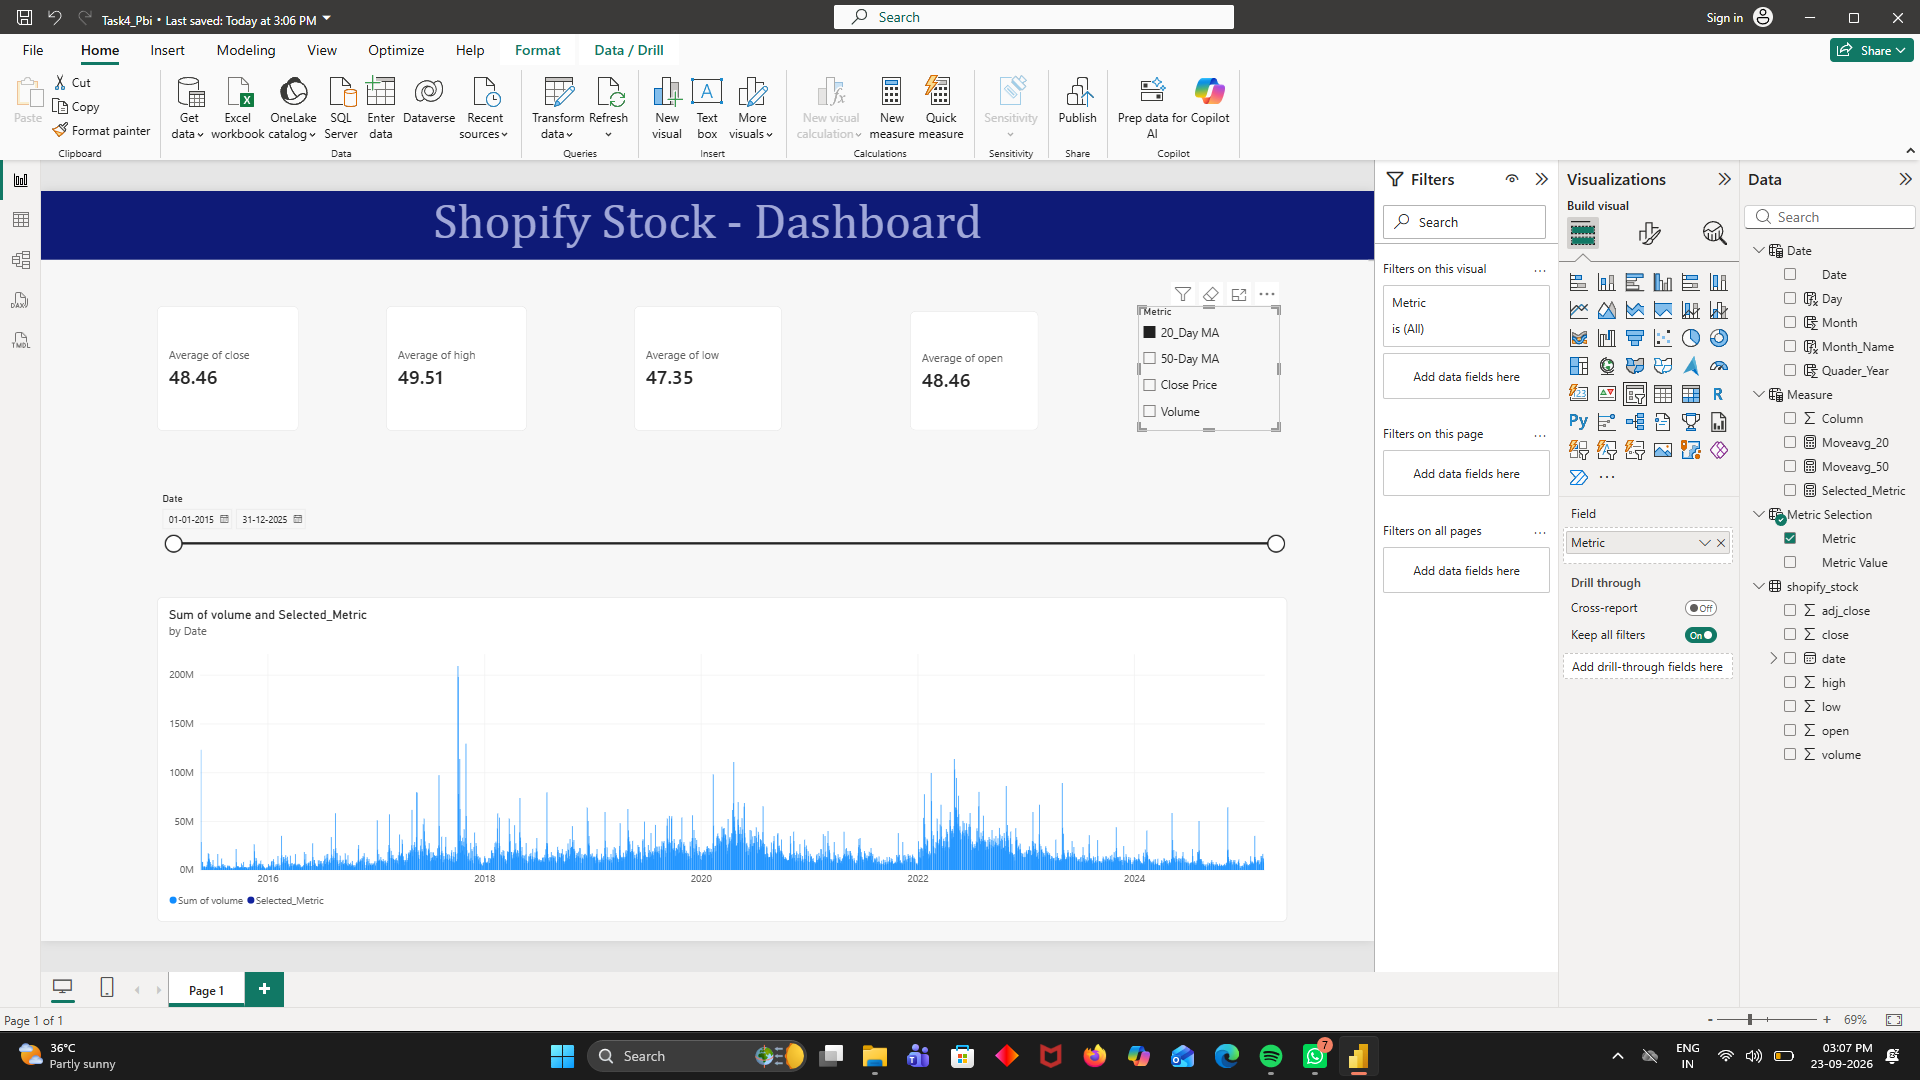

What the dashboard file says about the page in this screenshot:
{"tool":"powerbi","page":{"name":"Page 1","canvas":[1920,1080],"ordinal":0},"visuals":[{"type":"textbox","title":"Shopify Stock - Dashboard","box":[0,0,1920,100.7],"z":0},{"type":"slicer","fields":{"Values":["Metric Selection.Metric"]},"box":[1580.1,165.6,204.5,180],"z":1000},{"type":"cardVisual","fields":{"Data":["Avg(shopify_stock.close)"]},"box":[167.1,165.6,204.5,180],"z":2000},{"type":"cardVisual","fields":{"Data":["Avg(shopify_stock.high)"]},"box":[496.9,165.6,203.1,180],"z":3000},{"type":"cardVisual","fields":{"Data":["Avg(shopify_stock.low)"]},"box":[854.1,165.6,213.2,180],"z":4000},{"type":"cardVisual","fields":{"Data":["Avg(shopify_stock.open)"]},"box":[1251.7,172.8,185.8,172.8],"z":5000},{"type":"slicer","fields":{"Values":["Date.Date"]},"box":[167.1,435,1627.6,149.8],"z":6000},{"type":"lineClusteredColumnComboChart","fields":{"Category":["Date.Date"],"Y":["Sum(shopify_stock.volume)"],"Y2":["Measure.Selected_Metric"]},"box":[167.1,584.8,1627.6,468.1],"z":6001}]}

Visuals, with their boxes on the page's 1920x1080 design canvas (x1, y1, x2, y2). These are canvas units, not pixel positions in the 1920x1080 screenshot, which may show the page scaled, cropped or inside an application window:
"Shopify Stock - Dashboard" textbox: crop(0, 0, 1920, 101)
slicer - Metric Selection.Metric: crop(1580, 166, 1785, 346)
cardVisual - Avg(shopify_stock.close): crop(167, 166, 372, 346)
cardVisual - Avg(shopify_stock.high): crop(497, 166, 700, 346)
cardVisual - Avg(shopify_stock.low): crop(854, 166, 1067, 346)
cardVisual - Avg(shopify_stock.open): crop(1252, 173, 1438, 346)
slicer - Date.Date: crop(167, 435, 1795, 585)
lineClusteredColumnComboChart - Date.Date x Sum(shopify_stock.volume): crop(167, 585, 1795, 1053)
